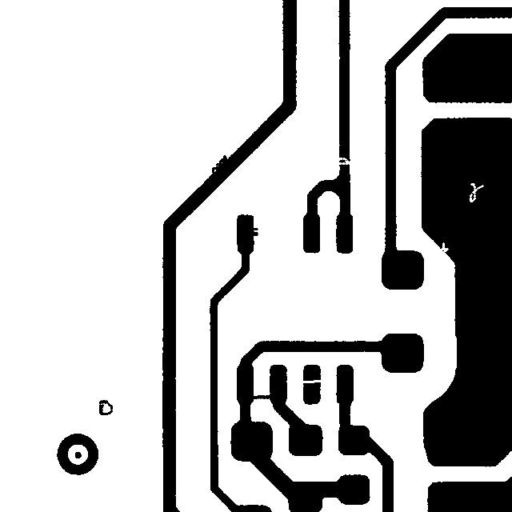copper: (91, 392, 120, 422), (67, 444, 89, 466)
mousebite: (433, 234, 456, 261)
open: (320, 150, 362, 174), (294, 371, 330, 391)
pin-hole: (462, 175, 491, 210)
short: (241, 387, 281, 406)
spur: (204, 147, 234, 181), (242, 220, 266, 243)
